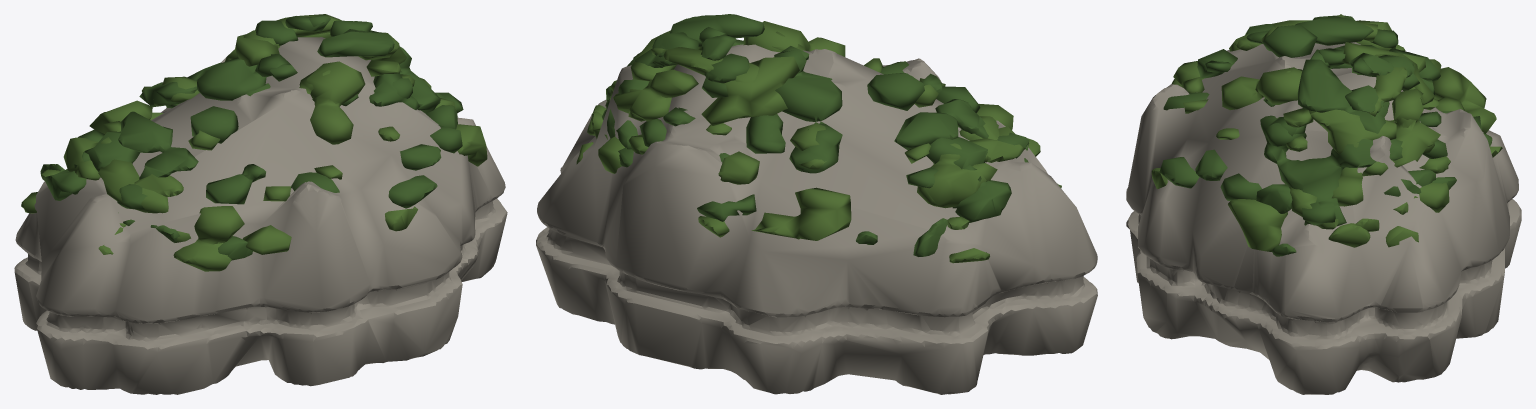
The model's file is karst-d.glb.
3 renders of one model, left to right at view 1: azimuth 30°, elevation 25°; view 2: azimuth 150°, elevation 25°; view 3: azimuth 270°, elevation 25°, orthographic. The views are drawn at different scales.
Parts seen in each view (by area): view 1: rock_0, bush_1, bush2_4, bush_3, bush2_2; view 2: rock_0, bush_1, bush2_2, bush2_4, bush_3; view 3: rock_0, bush2_4, bush_1, bush_3, bush2_2.
Boxes of the visible parts, bbox=[...] form: rock_0: bbox=[14, 37, 507, 394]; bush_1: bbox=[43, 14, 457, 225]; bush2_4: bbox=[63, 30, 487, 271]; bush_3: bbox=[40, 16, 463, 260]; bush2_2: bbox=[21, 14, 456, 254]; rock_0: bbox=[536, 44, 1097, 394]; bush_1: bbox=[606, 14, 1028, 244]; bush2_2: bbox=[591, 31, 1061, 263]; bush2_4: bbox=[576, 21, 1040, 208]; bush_3: bbox=[602, 32, 1029, 256]; rock_0: bbox=[1126, 42, 1521, 394]; bush2_4: bbox=[1171, 14, 1464, 252]; bush_1: bbox=[1159, 16, 1492, 226]; bush_3: bbox=[1195, 15, 1456, 256]; bush2_2: bbox=[1151, 20, 1502, 231].
Size of the model in its own units: 42.52 by 22.08 by 30.37.
